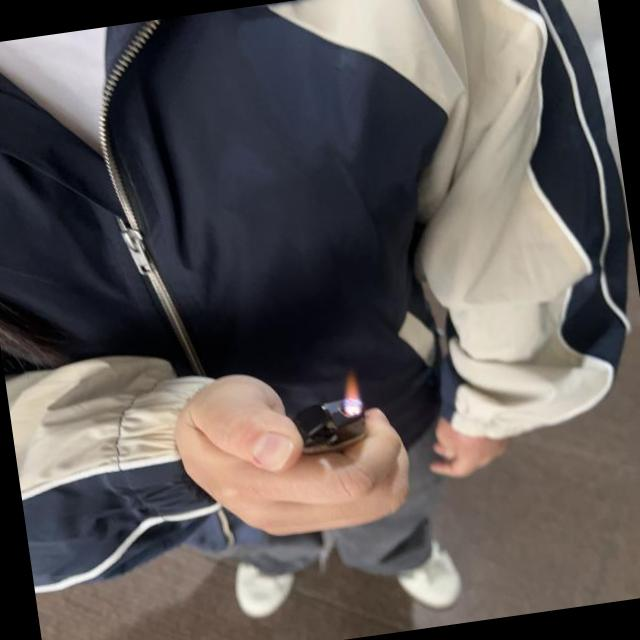Fire: (340, 369, 364, 405)
